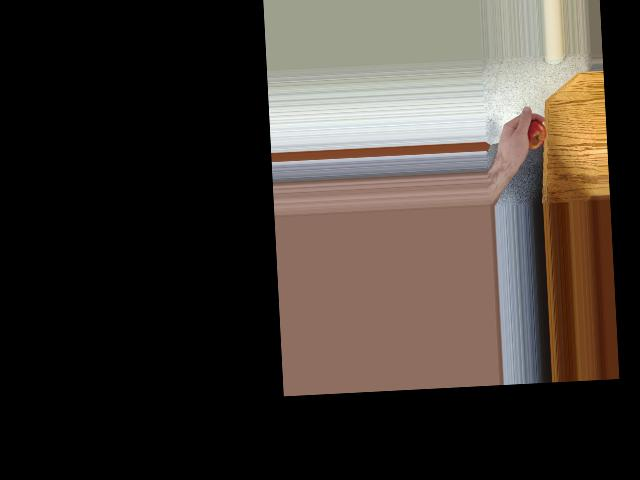apple: (519, 116, 549, 145)
